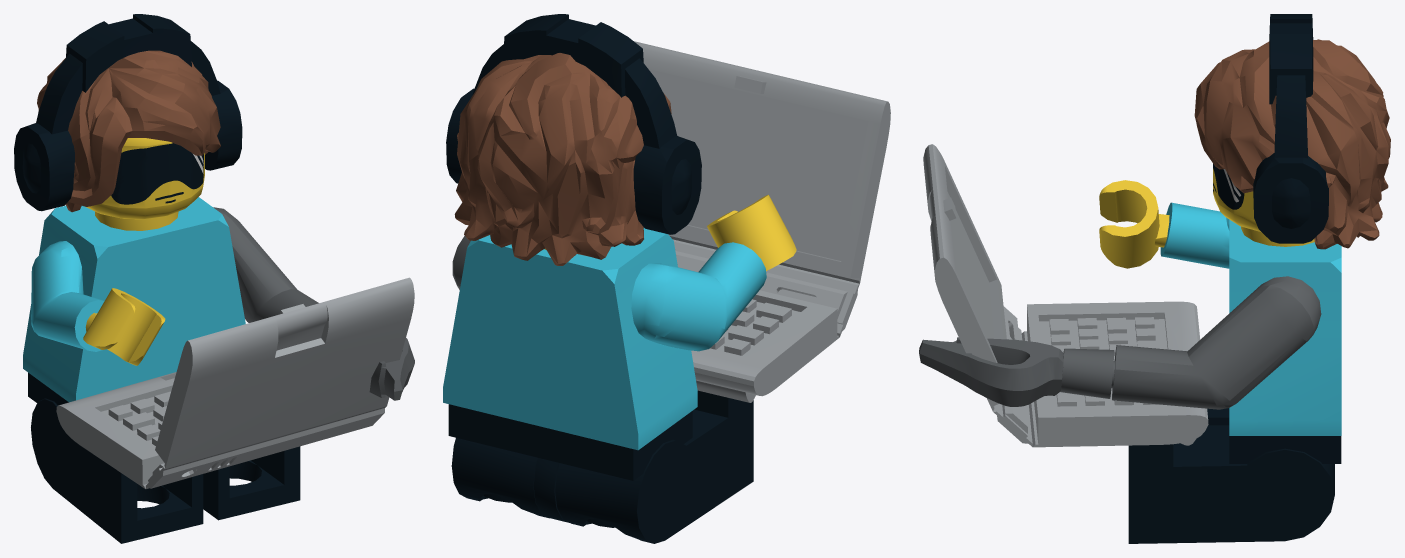
Rendered from aie.glb.
3 views of the same model, side by side, from view 1: azimuth 30°, elevation 25°; view 2: azimuth 150°, elevation 25°; view 3: azimuth 270°, elevation 25° (orthographic). The views are drawn at different scales.
Visible parts, largest first — view 1: Inner-Node-AIEO_dot_io-3.002, Inner-Node-AIEO_dot_io-5.002, Inner-Node-AIEO_dot_io-1.002, Inner-Node-AIEO_dot_io-8.002, Inner-Node-11-3815c01_dot_dat__Copy-1.002, Inner-Node-AIEO_dot_io-7.002, Inner-Node-AIEO_dot_io-6.002, Inner-Node-11-3815c01_dot_dat__Copy-2.002, Inner-Node-AIEO_dot_io-9.001, Inner-Node-1-bl__973c04_dot_dat__Copy-0.003, Inner-Node-AIEO_dot_io-4.002, Inner-Node-11-3815c01_dot_dat__Copy-0.002; view 2: Inner-Node-AIEO_dot_io-3.002, Inner-Node-AIEO_dot_io-5.002, Inner-Node-AIEO_dot_io-1.002, Inner-Node-11-3815c01_dot_dat__Copy-1.002, Inner-Node-AIEO_dot_io-8.002, Inner-Node-AIEO_dot_io-6.002, Inner-Node-11-3815c01_dot_dat__Copy-0.002, Inner-Node-11-3815c01_dot_dat__Copy-2.002, Inner-Node-1-bl__973c04_dot_dat__Copy-0.003; view 3: Inner-Node-AIEO_dot_io-3.002, Inner-Node-AIEO_dot_io-1.002, Inner-Node-11-3815c01_dot_dat__Copy-2.002, Inner-Node-AIEO_dot_io-9.001, Inner-Node-AIEO_dot_io-5.002, Inner-Node-AIEO_dot_io-8.002, Inner-Node-AIEO_dot_io-4.002, Inner-Node-1-bl__973c04_dot_dat__Copy-0.003, Inner-Node-AIEO_dot_io-6.002, Inner-Node-11-3815c01_dot_dat__Copy-0.002, Inner-Node-AIEO_dot_io-7.002.
Boxes of the visible parts, x1,y1,x2,y2 form: Inner-Node-AIEO_dot_io-3.002: (56,277,414,489); Inner-Node-AIEO_dot_io-5.002: (23,197,245,402); Inner-Node-AIEO_dot_io-1.002: (37,50,220,212); Inner-Node-AIEO_dot_io-8.002: (14,14,242,211); Inner-Node-11-3815c01_dot_dat__Copy-1.002: (31,398,203,543); Inner-Node-AIEO_dot_io-7.002: (86,138,204,230); Inner-Node-AIEO_dot_io-6.002: (31,241,104,351); Inner-Node-11-3815c01_dot_dat__Copy-2.002: (203,446,300,520); Inner-Node-AIEO_dot_io-9.001: (213,207,318,322); Inner-Node-1-bl__973c04_dot_dat__Copy-0.003: (83,288,165,365); Inner-Node-AIEO_dot_io-4.002: (369,338,414,400); Inner-Node-11-3815c01_dot_dat__Copy-0.002: (28,372,68,405); Inner-Node-AIEO_dot_io-3.002: (634,41,890,402); Inner-Node-AIEO_dot_io-5.002: (443,228,697,450); Inner-Node-AIEO_dot_io-1.002: (454,53,671,265); Inner-Node-11-3815c01_dot_dat__Copy-1.002: (555,390,753,543); Inner-Node-AIEO_dot_io-8.002: (446,14,701,234); Inner-Node-AIEO_dot_io-6.002: (631,242,766,351); Inner-Node-11-3815c01_dot_dat__Copy-0.002: (448,404,692,522); Inner-Node-11-3815c01_dot_dat__Copy-2.002: (451,438,549,518); Inner-Node-1-bl__973c04_dot_dat__Copy-0.003: (707,194,796,270); Inner-Node-AIEO_dot_io-3.002: (923,144,1208,447); Inner-Node-AIEO_dot_io-1.002: (1194,39,1390,249); Inner-Node-11-3815c01_dot_dat__Copy-2.002: (1128,425,1334,543); Inner-Node-AIEO_dot_io-9.001: (1112,276,1321,409); Inner-Node-AIEO_dot_io-5.002: (1229,219,1341,435); Inner-Node-AIEO_dot_io-8.002: (1253,14,1328,243); Inner-Node-AIEO_dot_io-4.002: (919,337,1115,406); Inner-Node-1-bl__973c04_dot_dat__Copy-0.003: (1099,180,1169,268); Inner-Node-AIEO_dot_io-6.002: (1160,202,1229,268); Inner-Node-11-3815c01_dot_dat__Copy-0.002: (1229,436,1341,463); Inner-Node-AIEO_dot_io-7.002: (1213,163,1314,246).
Size of the model in its own units: 2.33 by 3.66 by 3.34.
